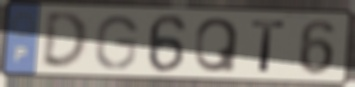6: (147, 12, 189, 75), (296, 18, 338, 78)
D: (39, 10, 91, 72)
G: (93, 13, 140, 72)
Q: (192, 16, 241, 75)
T: (249, 18, 288, 75)
